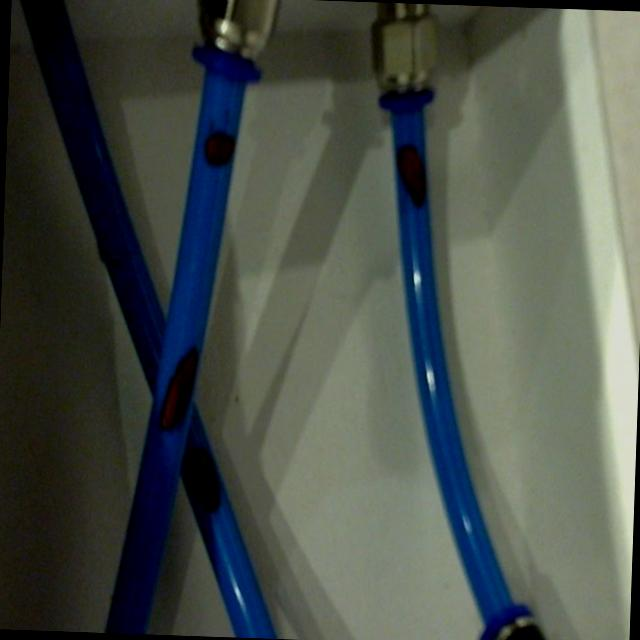hose_damage: (155, 343, 201, 443), (185, 436, 227, 522), (394, 140, 435, 216), (202, 122, 241, 180), (21, 0, 71, 39)
